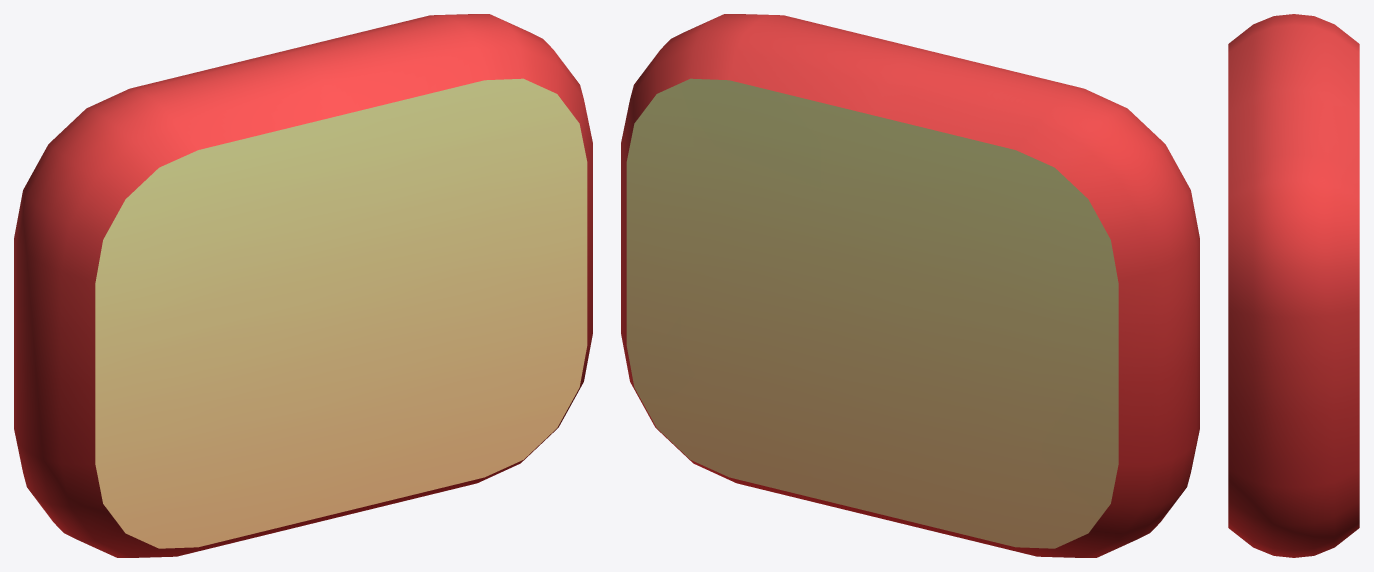
File: bubble_orange.gltf
3 renders of one model, left to right at view 1: azimuth 30°, elevation 25°; view 2: azimuth 150°, elevation 25°; view 3: azimuth 270°, elevation 25°, orthographic. The views are drawn at different scales.
Visible parts, largest first — view 1: Plane; view 2: Plane; view 3: Plane.
Boxes of the visible parts, left/top/right/bottom form: Plane: left=14, top=14, right=592, bottom=557; Plane: left=621, top=14, right=1199, bottom=557; Plane: left=1228, top=14, right=1359, bottom=557.
Size of the model in its own units: 0.5024 by 0.3939 by 0.1196.
1 material, 1 textured.
